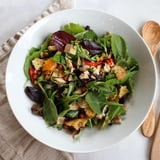chopped lettuce: (40, 33, 123, 121)
